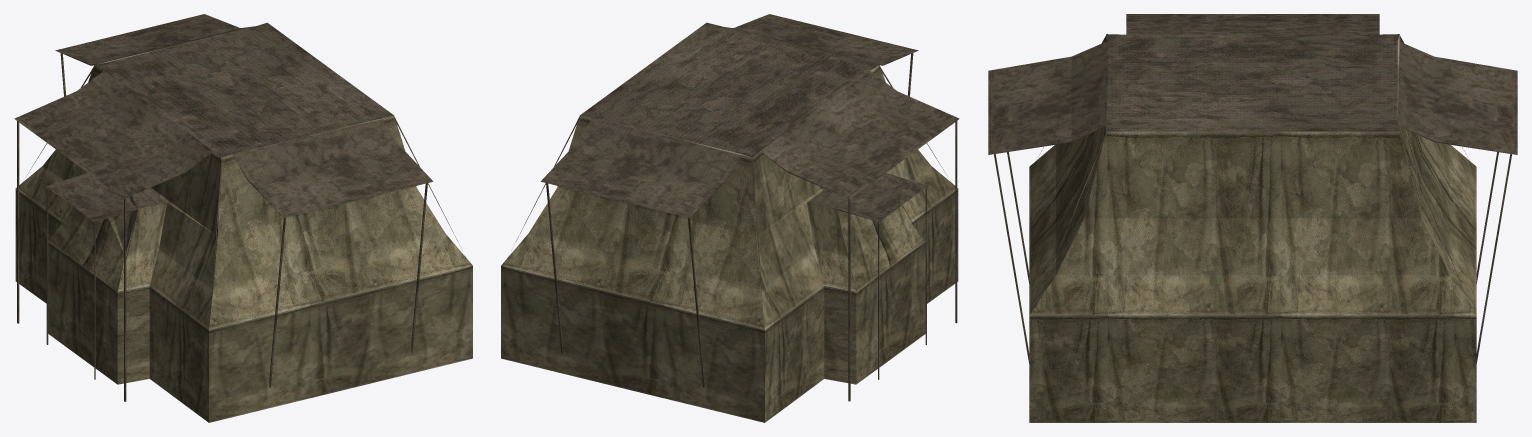
The model's file is eqp_camping_tent_s4_l1.fbx.
The picture shows the model from 3 angles, left to right: view 1: azimuth 30°, elevation 25°; view 2: azimuth 150°, elevation 25°; view 3: azimuth 270°, elevation 25°; orthographic projection. The views are drawn at different scales.
Parts seen in each view (by area): view 1: mesh_node; view 2: mesh_node; view 3: mesh_node.
Boxes of the visible parts, bbox=[...] form: mesh_node: bbox=[14, 14, 472, 422]; mesh_node: bbox=[501, 14, 959, 422]; mesh_node: bbox=[988, 14, 1517, 422].
Size of the model in its own units: 5.14 by 3.67 by 6.63.
